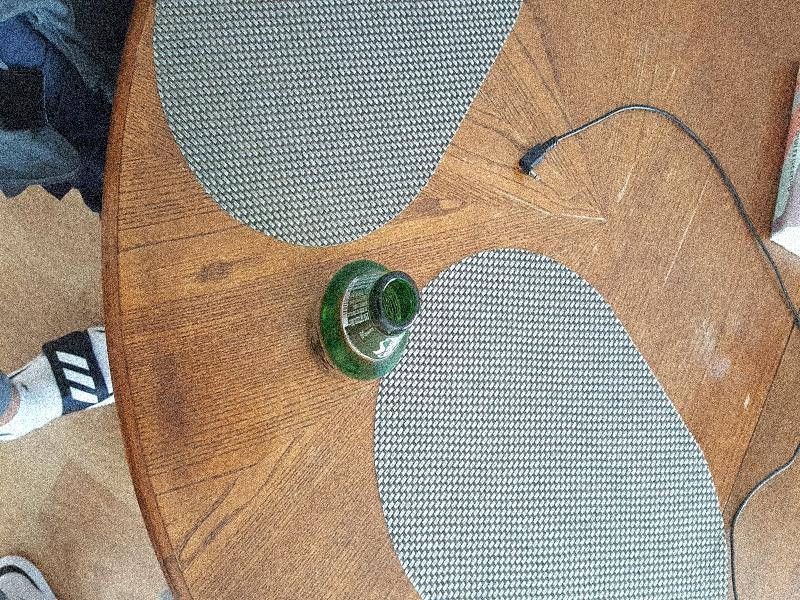Beer: (307, 259, 419, 380)
